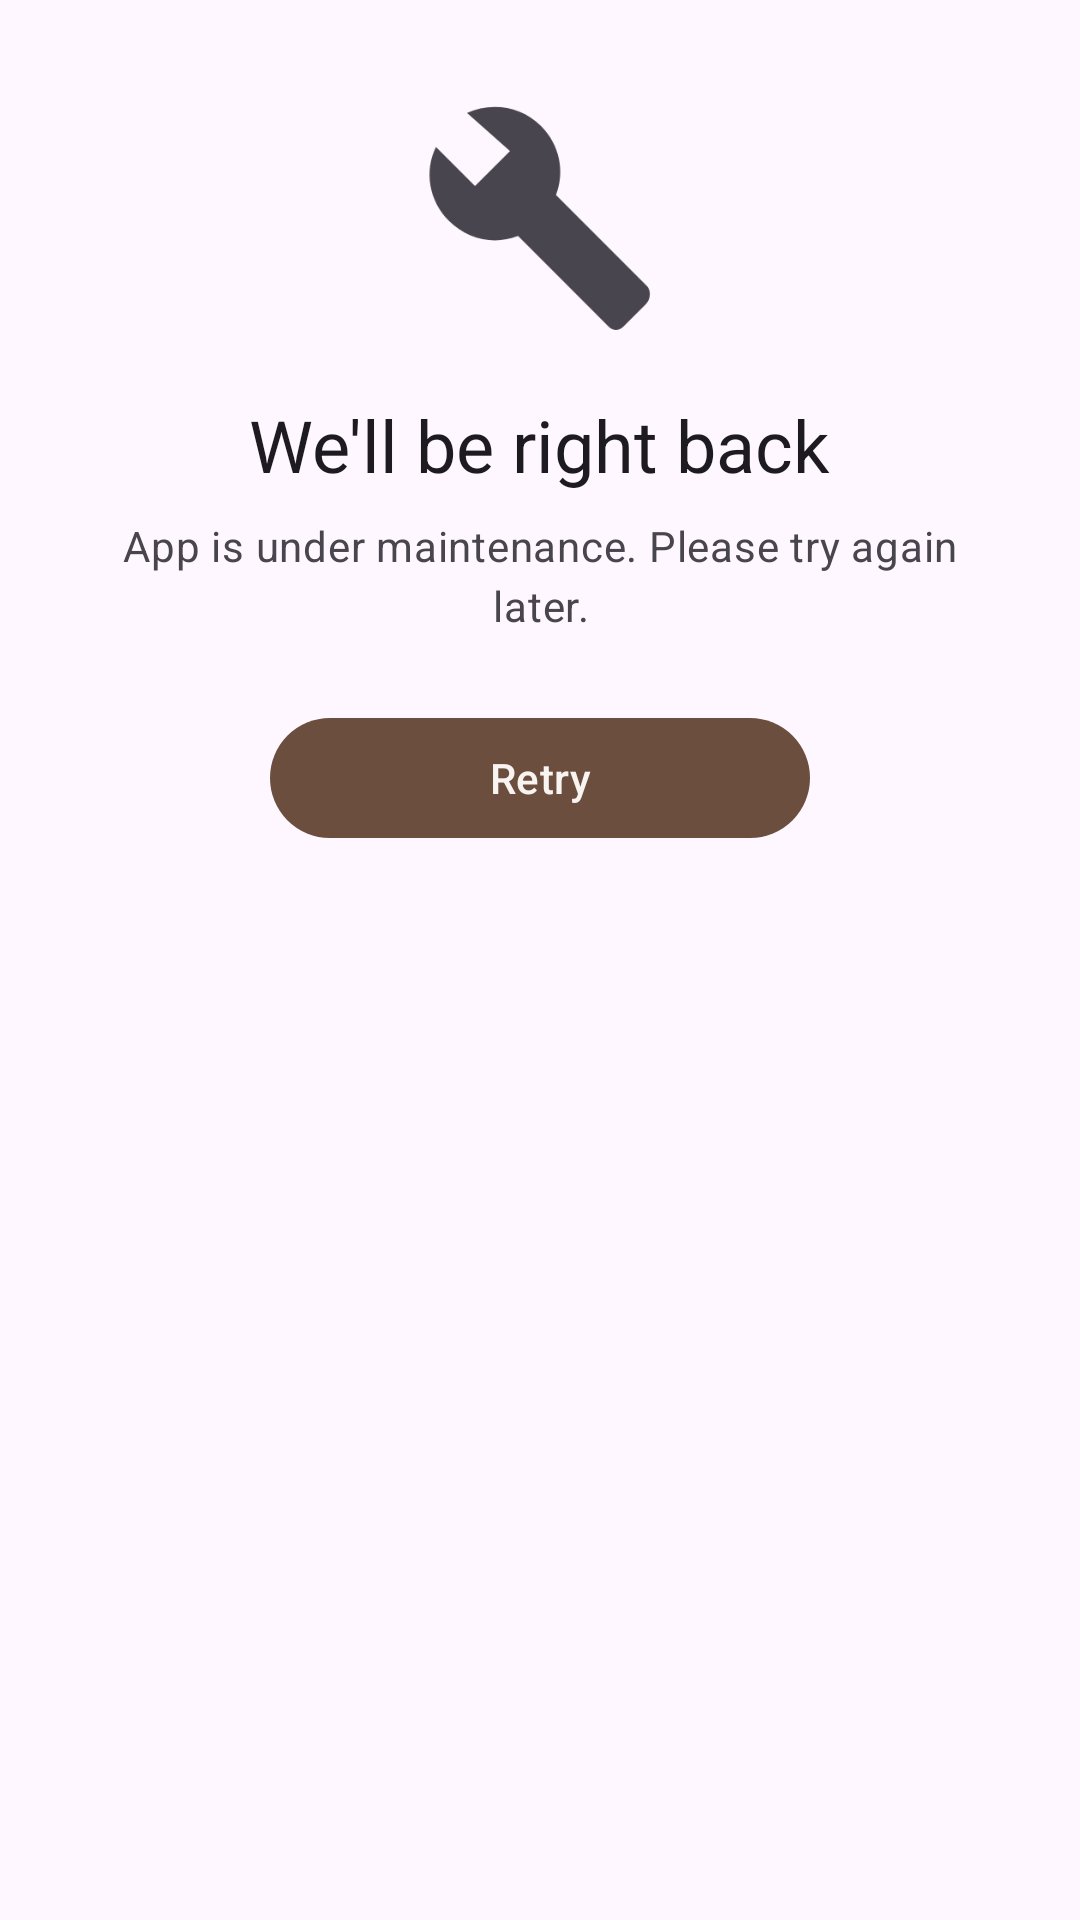

Named icons in this screenshot (1080×1920) and their centers, [x,y]:
maintenance: [539,218]
